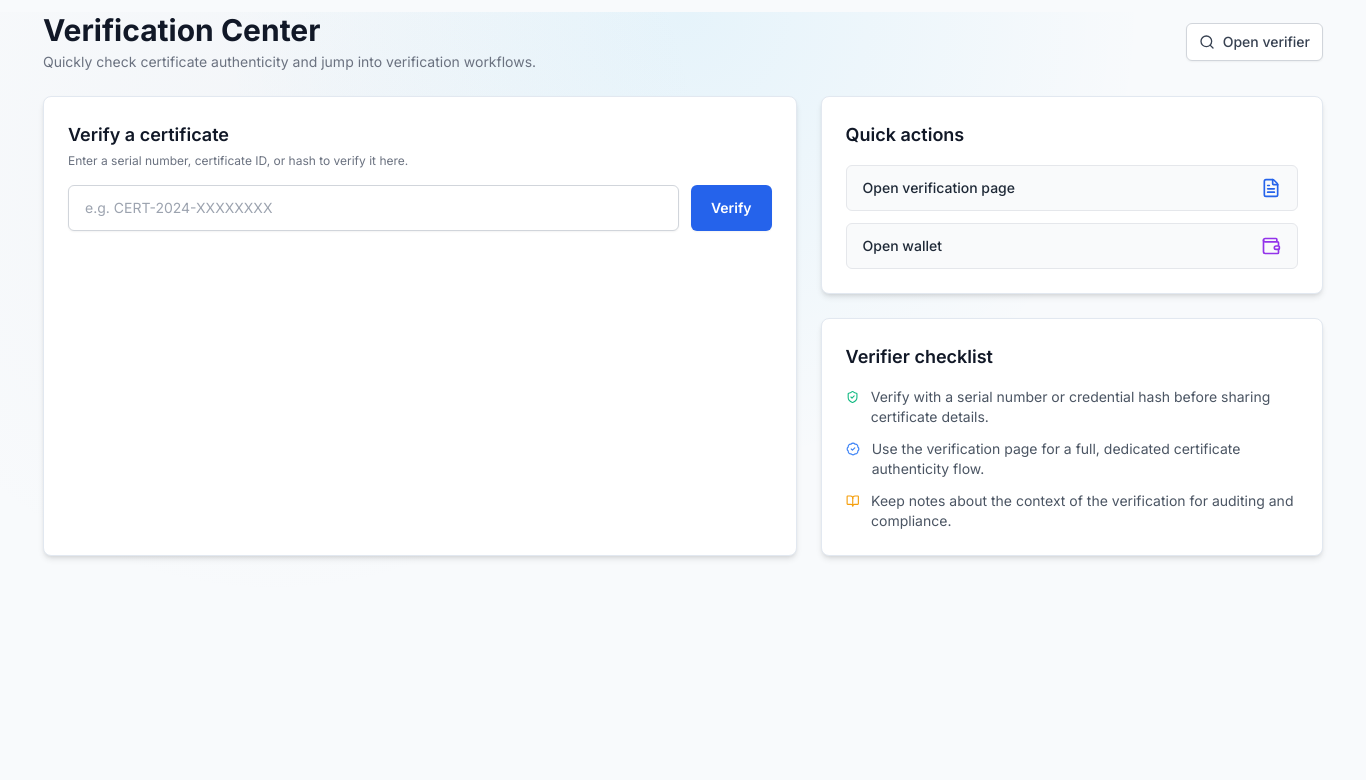
Test: Dashboard role views › renders the verifier dashboard for verifier users
Expected: the heading "Verification Center" is shown, [43, 12, 320, 48]
In the field with placeholder "e.g. CERT-2024-XXXXXXXX": (373, 208) [68, 185, 679, 231], type "CERT-2026-001"
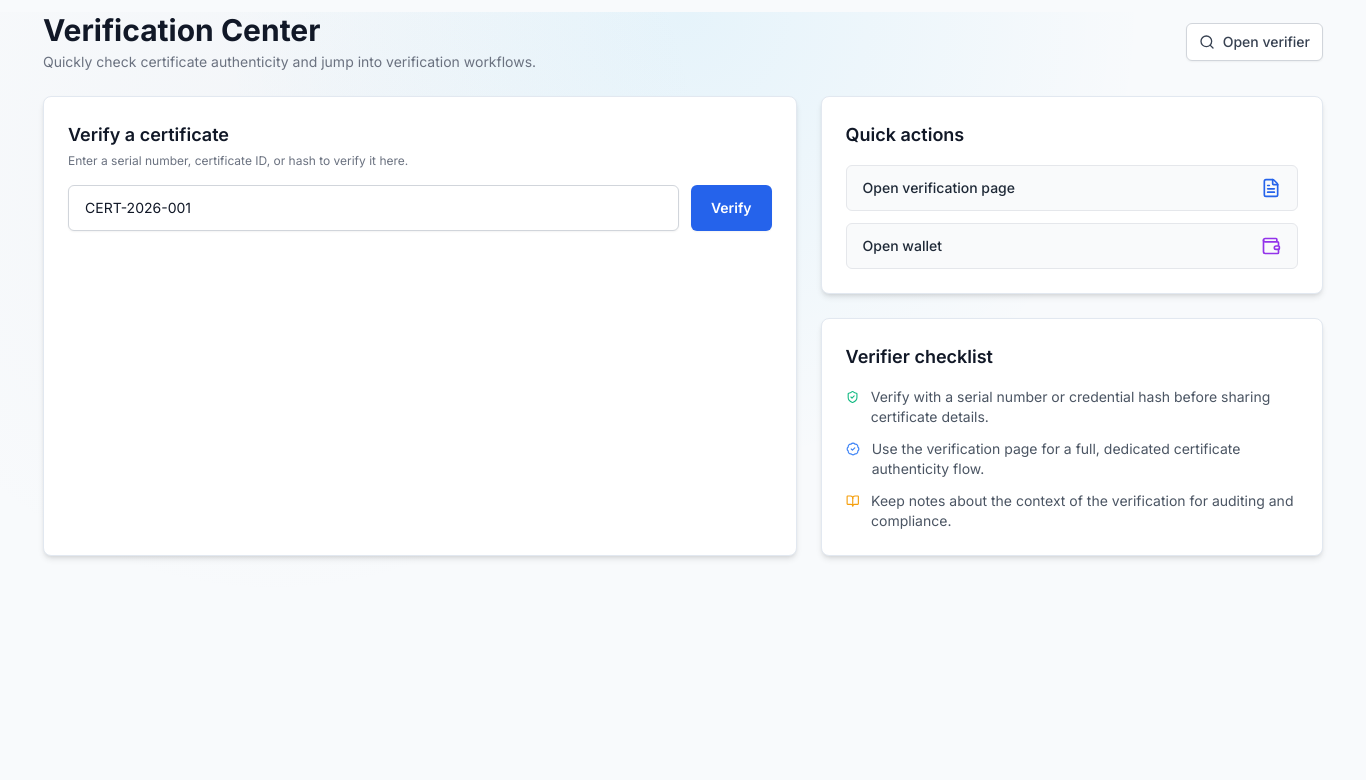
Click the button "Verify": (731, 208) [691, 185, 772, 231]
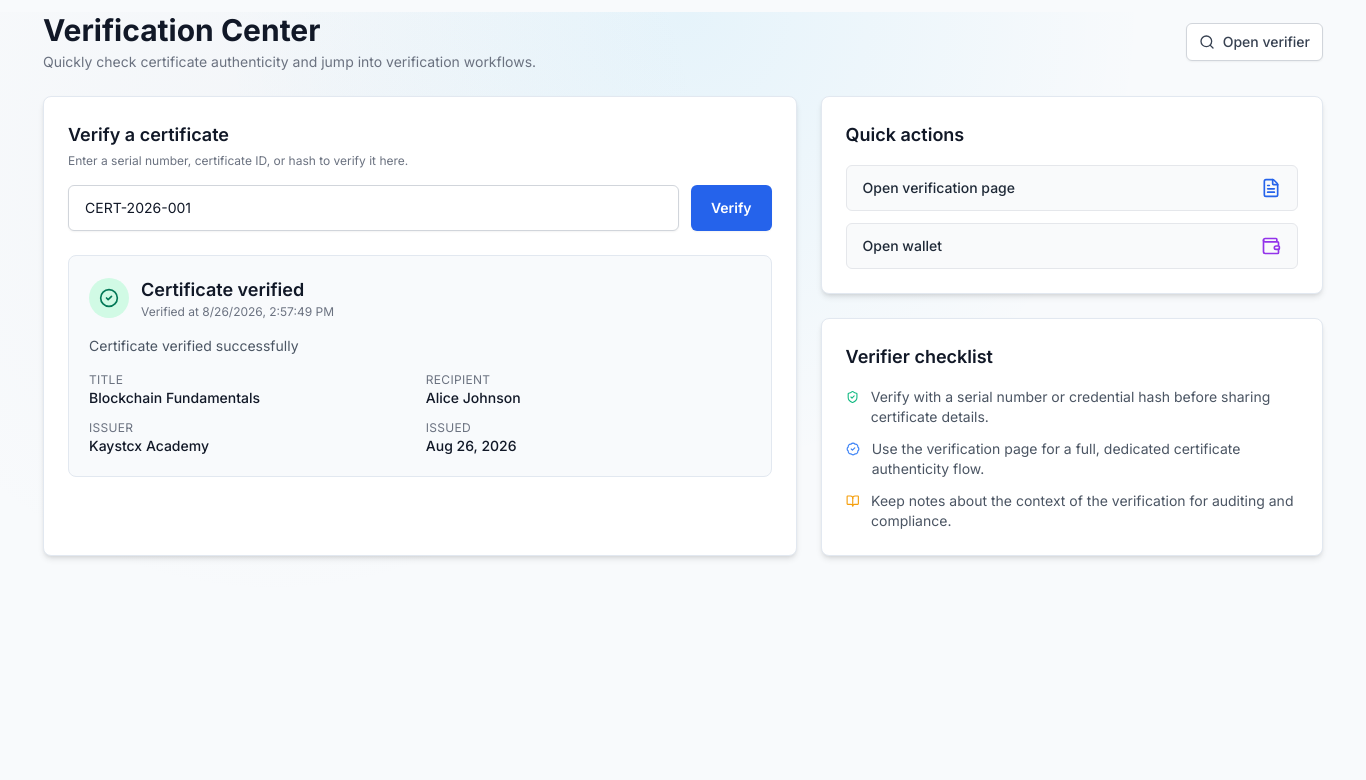
Expected: the text "Certificate verified successfully" is shown, [89, 337, 298, 354]
